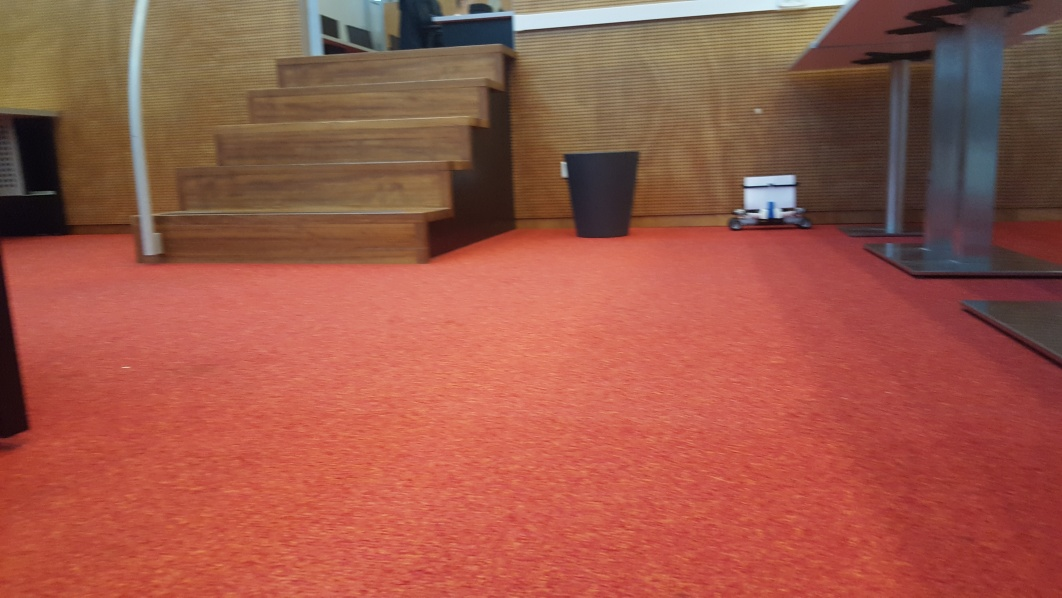car: (728, 172, 813, 234)
